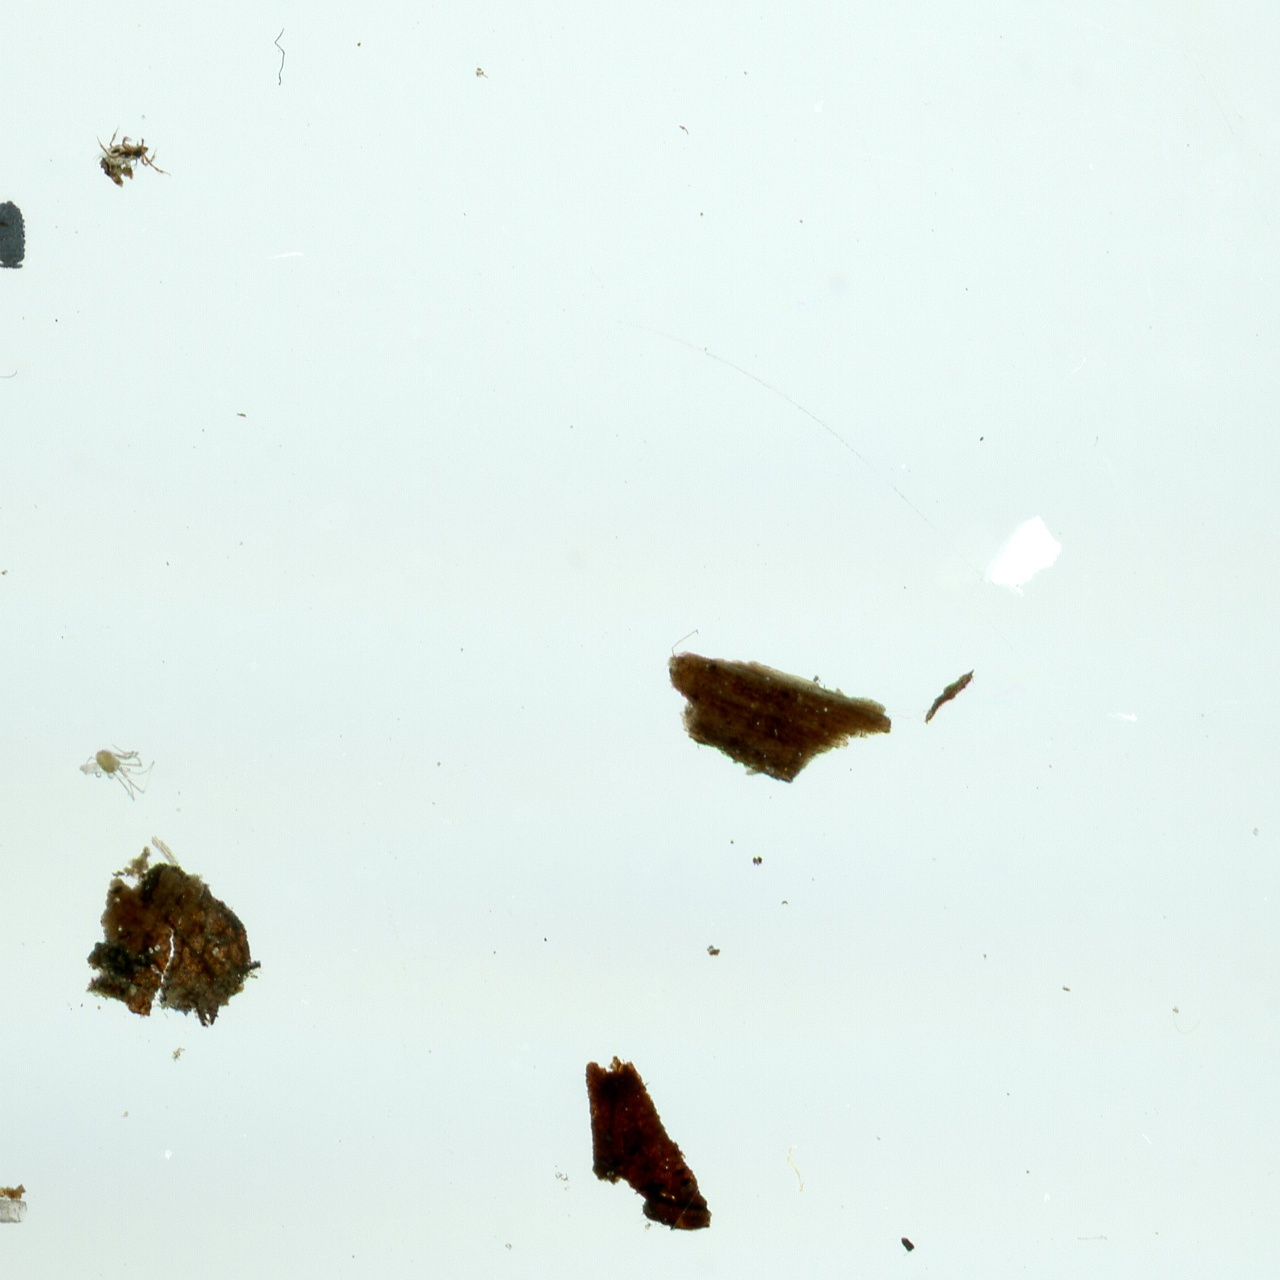arthropod: (70, 734, 159, 806), (94, 123, 173, 188), (0, 199, 26, 270)
